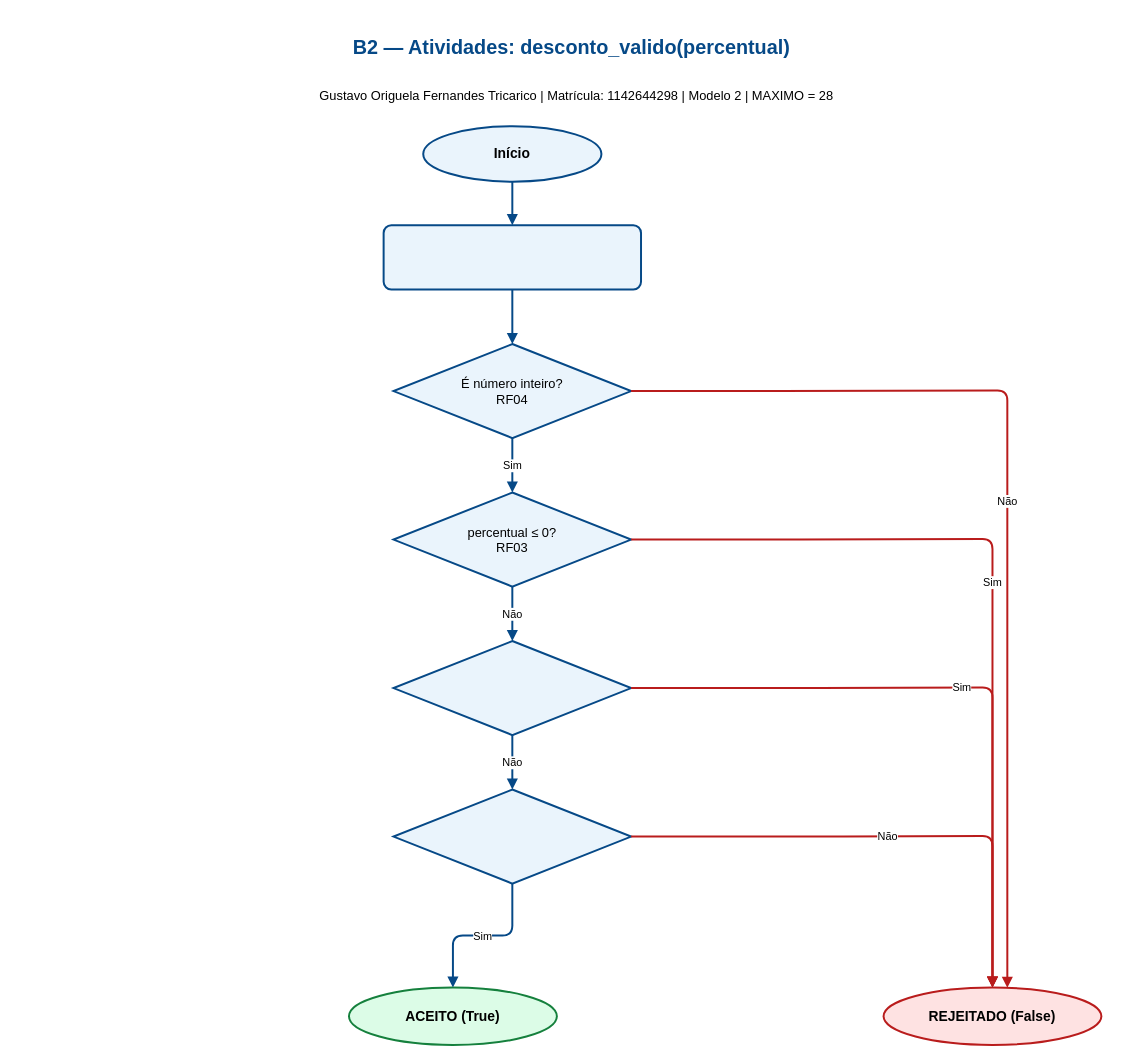
Image size: 1142x1062. Some labels were removed from this diagram. Each missing label, with the box of its shape:
1 ≤ percentual ≤ 28? RF01: (392, 788, 632, 884)
percentual > 28? RF02: (392, 640, 632, 736)
Receber percentual do cupom: (382, 224, 642, 290)
